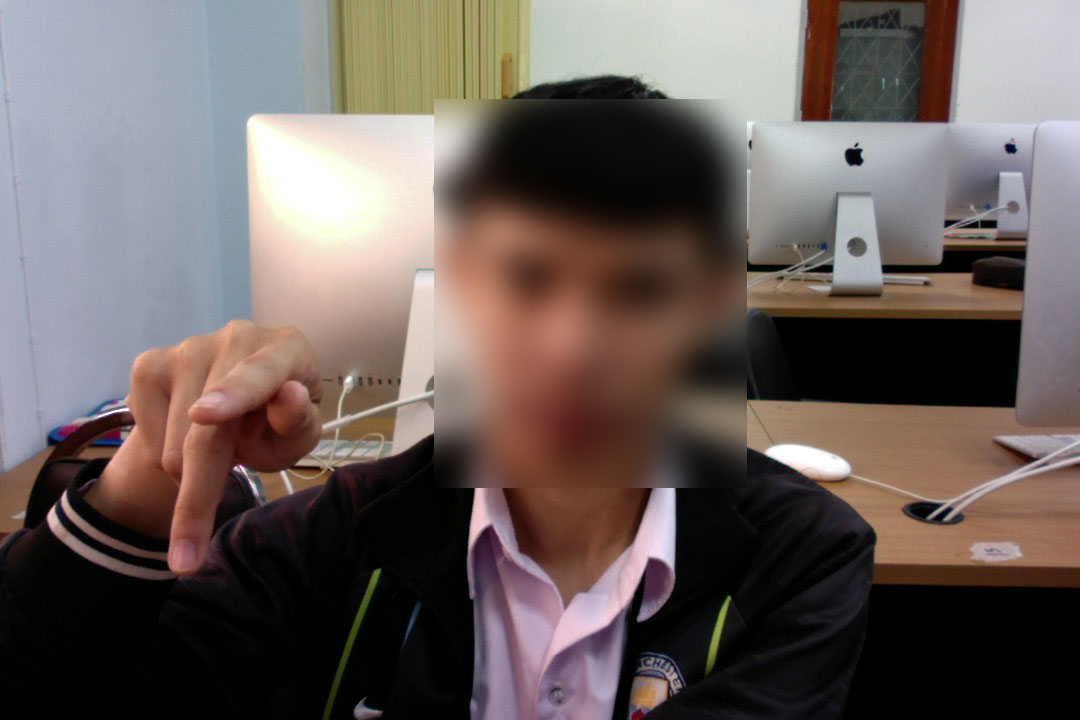por: (119, 305, 327, 581)
